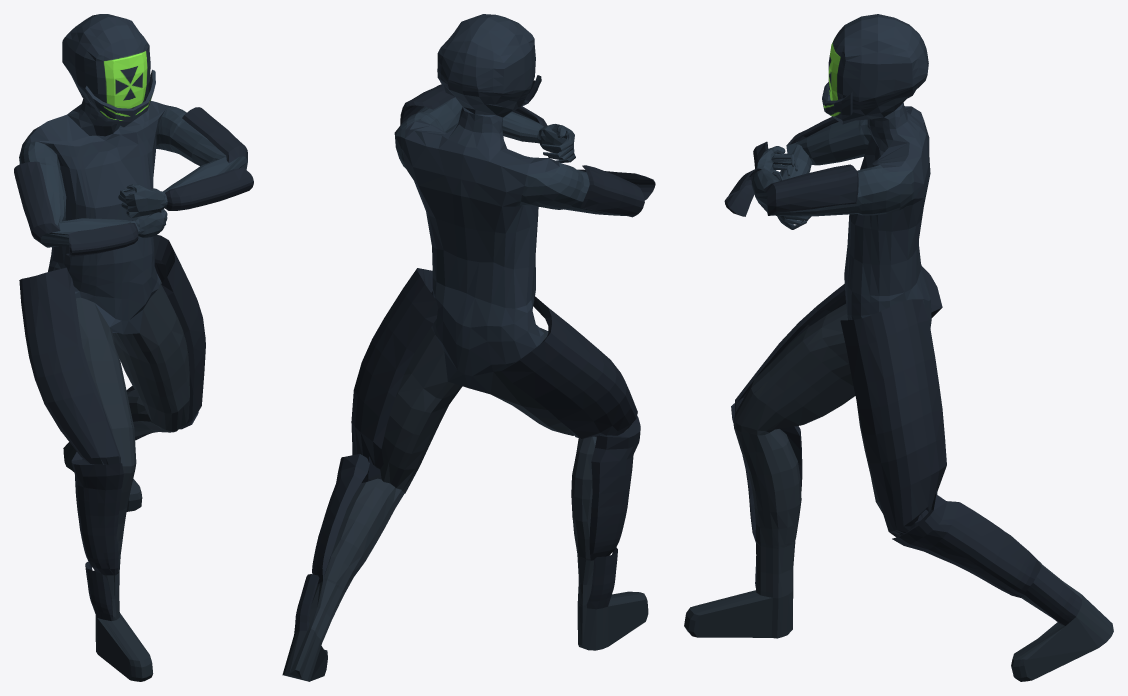
The model's file is Bastion_WR_000007.obj.
The picture shows the model from 3 angles, left to right: view 1: azimuth 30°, elevation 25°; view 2: azimuth 150°, elevation 25°; view 3: azimuth 270°, elevation 25°; orthographic projection. The views are drawn at different scales.
Parts seen in each view (by area): view 1: Cube.002; view 2: Cube.002; view 3: Cube.002.
Boxes of the visible parts, left/top/right/bottom form: Cube.002: left=14, top=14, right=253, bottom=681; Cube.002: left=282, top=14, right=655, bottom=681; Cube.002: left=684, top=14, right=1113, bottom=681.
Bounding box in the file's own units: 1.4 × 3.58 × 2.18.
